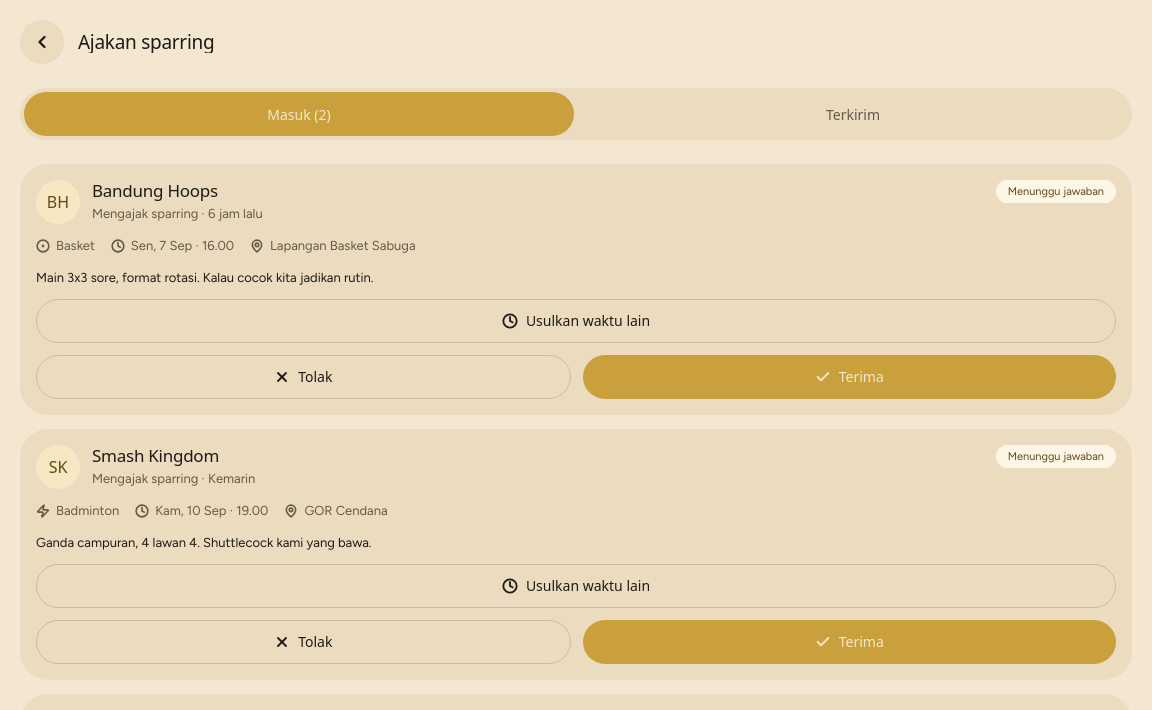
Test: SparringScreen › memisahkan ajakan masuk dari yang terkirim
This screenshot has width=1152, height=710.
Check: the heading "Bandung Hoops" is shown, box 92,179 -> 218,202
Check: the text "Kamu mengajak" is not shown
Click the tab "Terkirim": (853, 114) 578,92 -> 1128,136
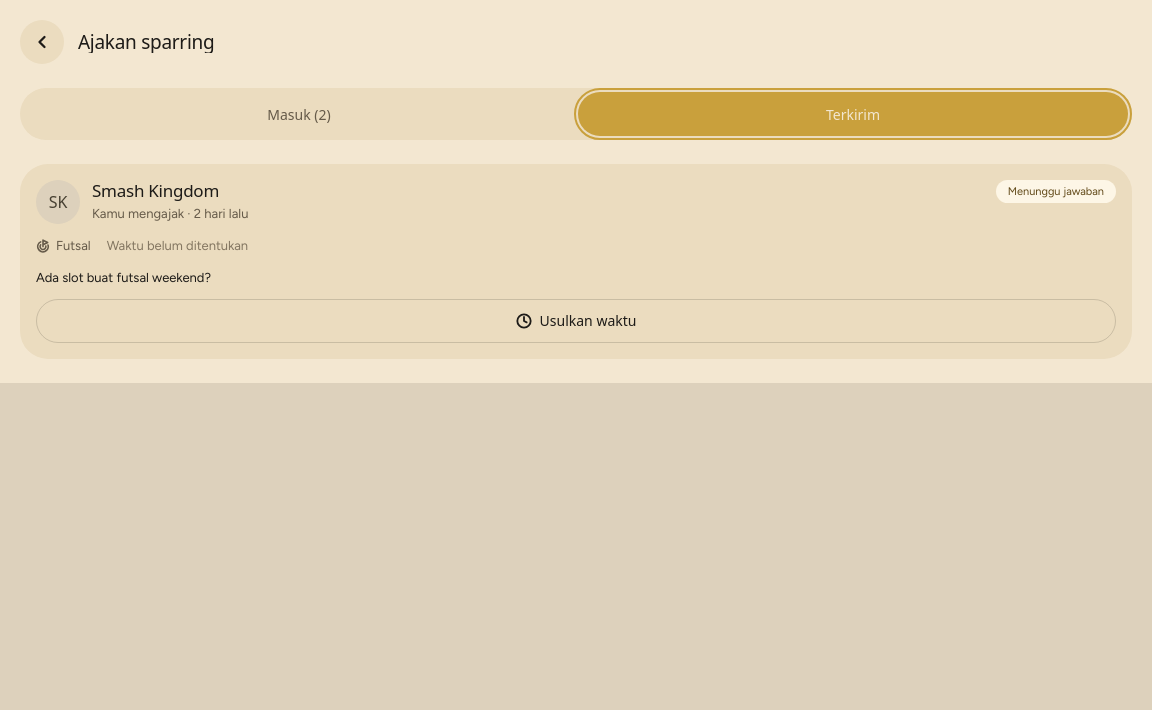
Check: the text "Kamu mengajak · 2 hari lalu" is shown, box 92,206 -> 248,221
Check: the heading "Bandung Hoops" is gone
